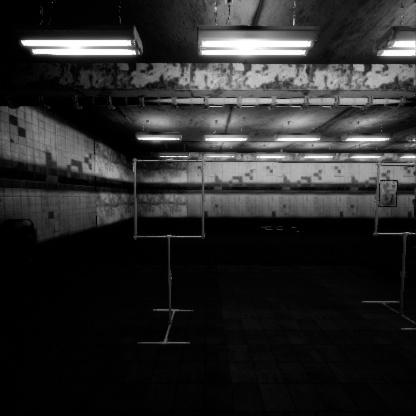gate: (133, 176, 211, 256), (374, 179, 416, 252)
